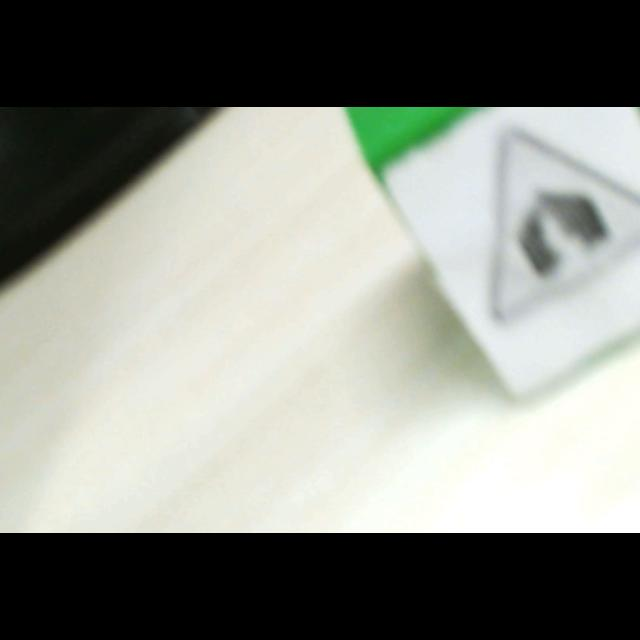Earthquake: (490, 163, 636, 324)
